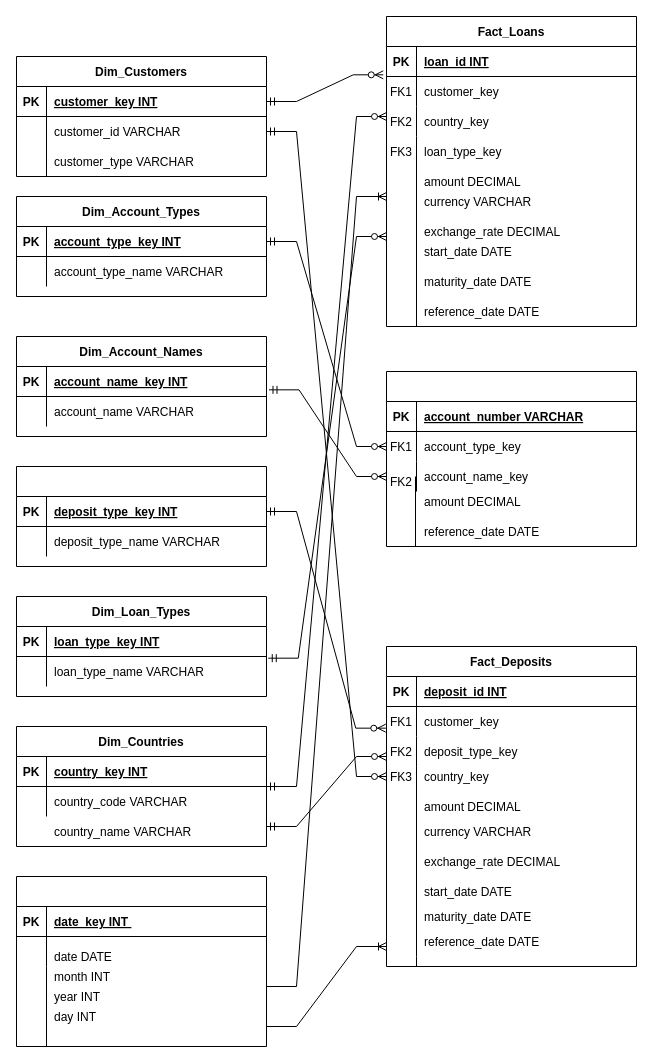
This 653x1063 diagram has some shape labels left out. The shapes that lost their labels are listed below. From the top down, each one's box as (x1, y1, x2, y2) in pixels, then its label:
(386, 370, 636, 546): Fact_Accounts
(16, 466, 266, 566): Dim_Deposit_Types
(16, 876, 266, 1046): Dim_Dates
